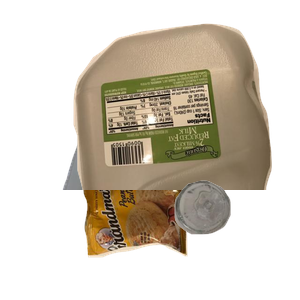glass: (172, 178, 300, 300)
metal: (60, 82, 300, 262)
plastic: (71, 21, 300, 201)
trash: (81, 168, 261, 300)
